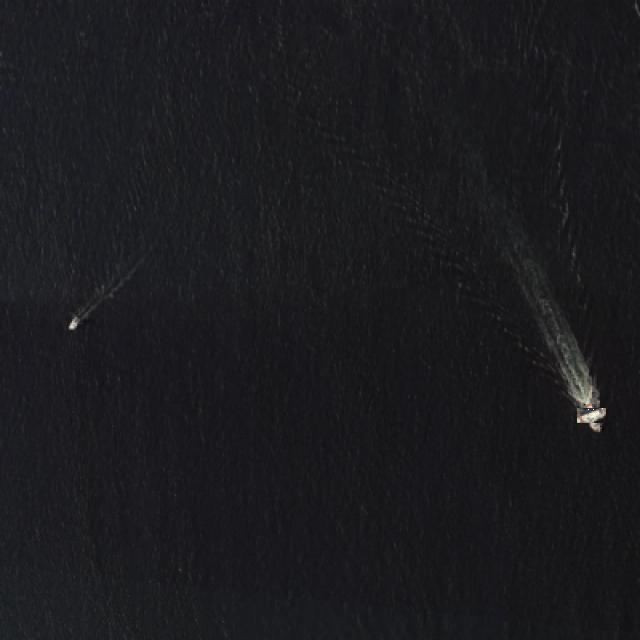boat: (581, 404, 603, 427), (67, 314, 80, 328)
